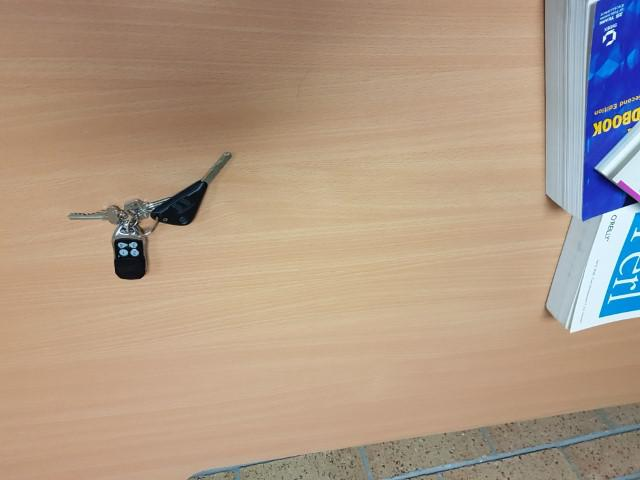key: (146, 147, 234, 234)
